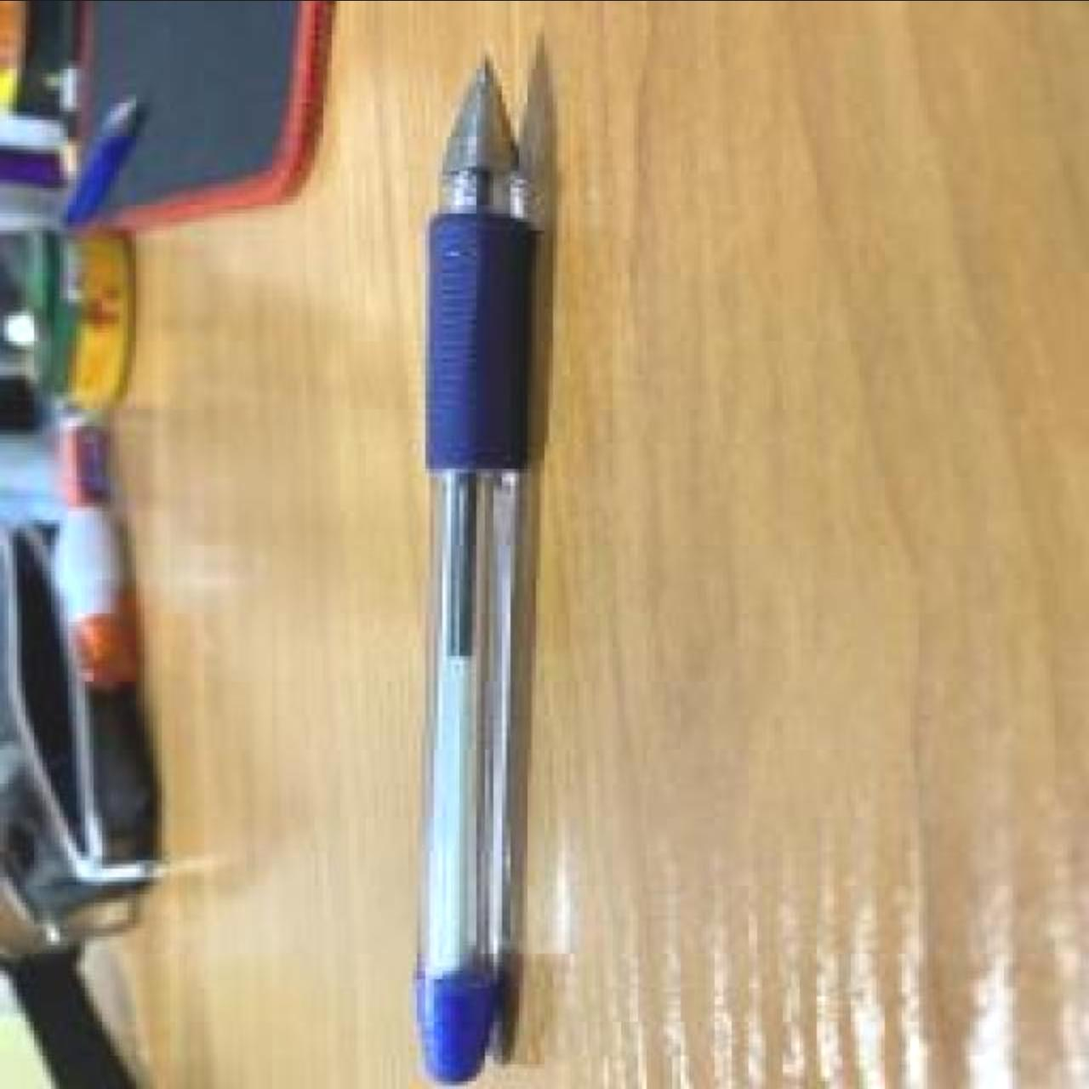pen: (413, 51, 546, 1080)
